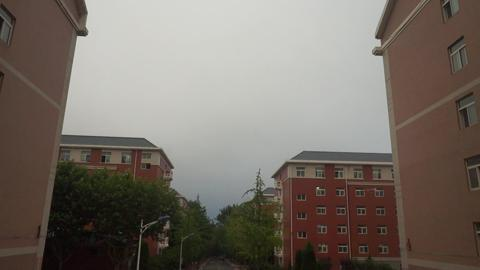UAV: (366, 188, 377, 194)
